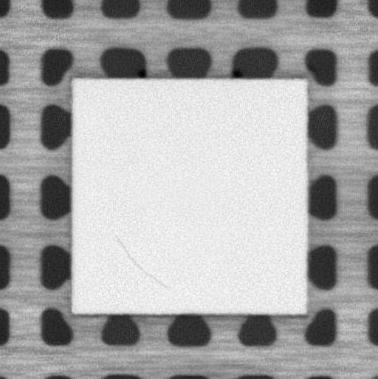DIE_CRACK: (114, 233, 167, 290)
